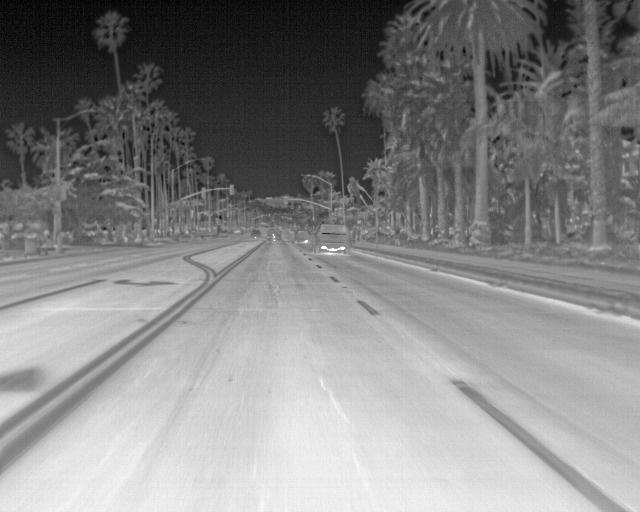bicycle: (314, 222, 351, 253), (294, 228, 309, 242)
